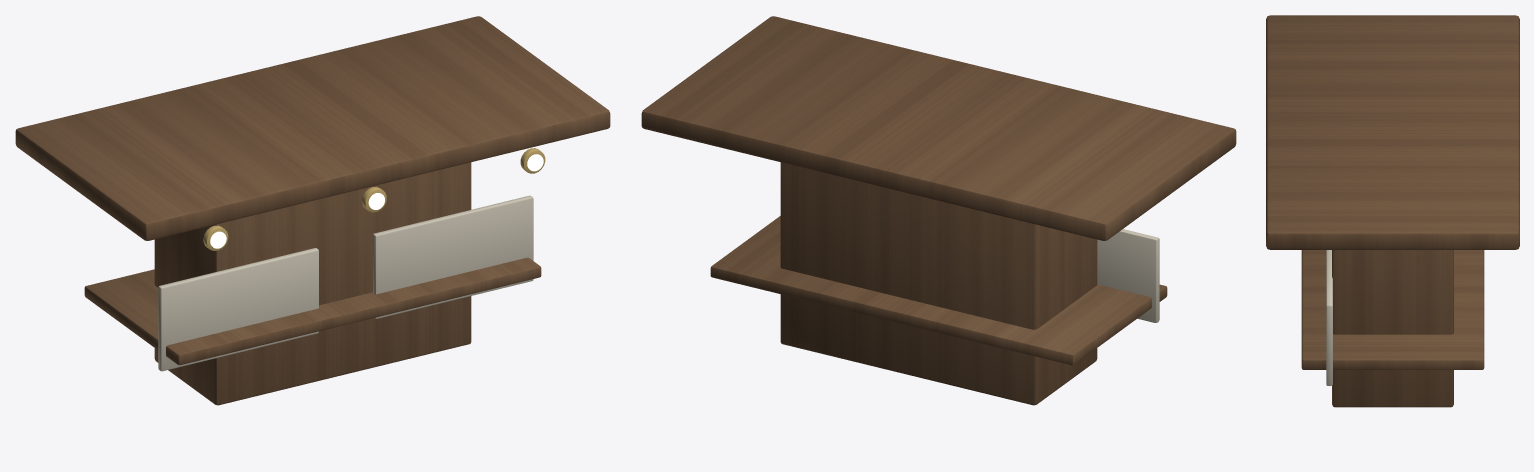
The model's file is pf_display_feature_table_t4.glb.
The picture shows the model from 3 angles, left to right: view 1: azimuth 30°, elevation 25°; view 2: azimuth 150°, elevation 25°; view 3: azimuth 270°, elevation 25°; orthographic projection. The views are drawn at different scales.
Visible parts, largest first — view 1: Feature_Table_Top, Feature_Table_Plinth, Lower_Display_Deck, Inset_Panel_-0.44, Inset_Panel_+0.44; view 2: Feature_Table_Top, Feature_Table_Plinth, Lower_Display_Deck, Inset_Panel_-0.44; view 3: Feature_Table_Top, Feature_Table_Plinth, Lower_Display_Deck, Inset_Panel_+0.44.
Boxes of the visible parts, x1,y1,x2,y2 form: Feature_Table_Top: (15,16,610,240); Feature_Table_Plinth: (154,162,471,405); Lower_Display_Deck: (84,257,541,365); Inset_Panel_-0.44: (158,248,318,371); Inset_Panel_+0.44: (373,195,533,318); Feature_Table_Top: (641,16,1236,240); Feature_Table_Plinth: (780,162,1097,405); Lower_Display_Deck: (710,216,1167,365); Inset_Panel_-0.44: (1097,229,1159,322); Feature_Table_Top: (1266,15,1519,249); Feature_Table_Plinth: (1332,250,1453,407); Lower_Display_Deck: (1301,250,1484,369); Inset_Panel_+0.44: (1326,250,1332,385).
Bounding box in the file's own units: 1.92 × 0.92 × 0.94.
5 materials, 1 textured.
